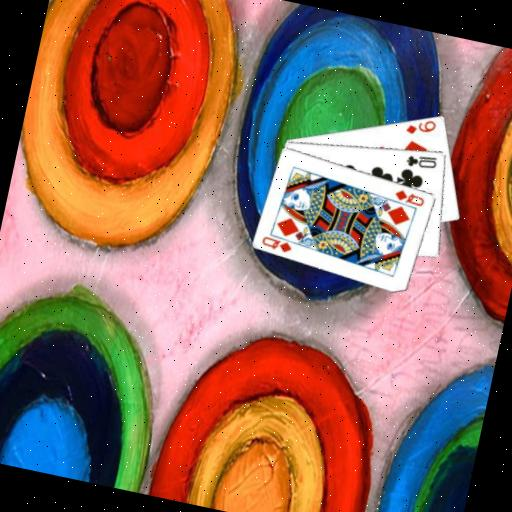10C: (402, 147, 440, 172)
9D: (402, 112, 439, 140)
QD: (390, 184, 428, 208), (257, 232, 295, 255)
